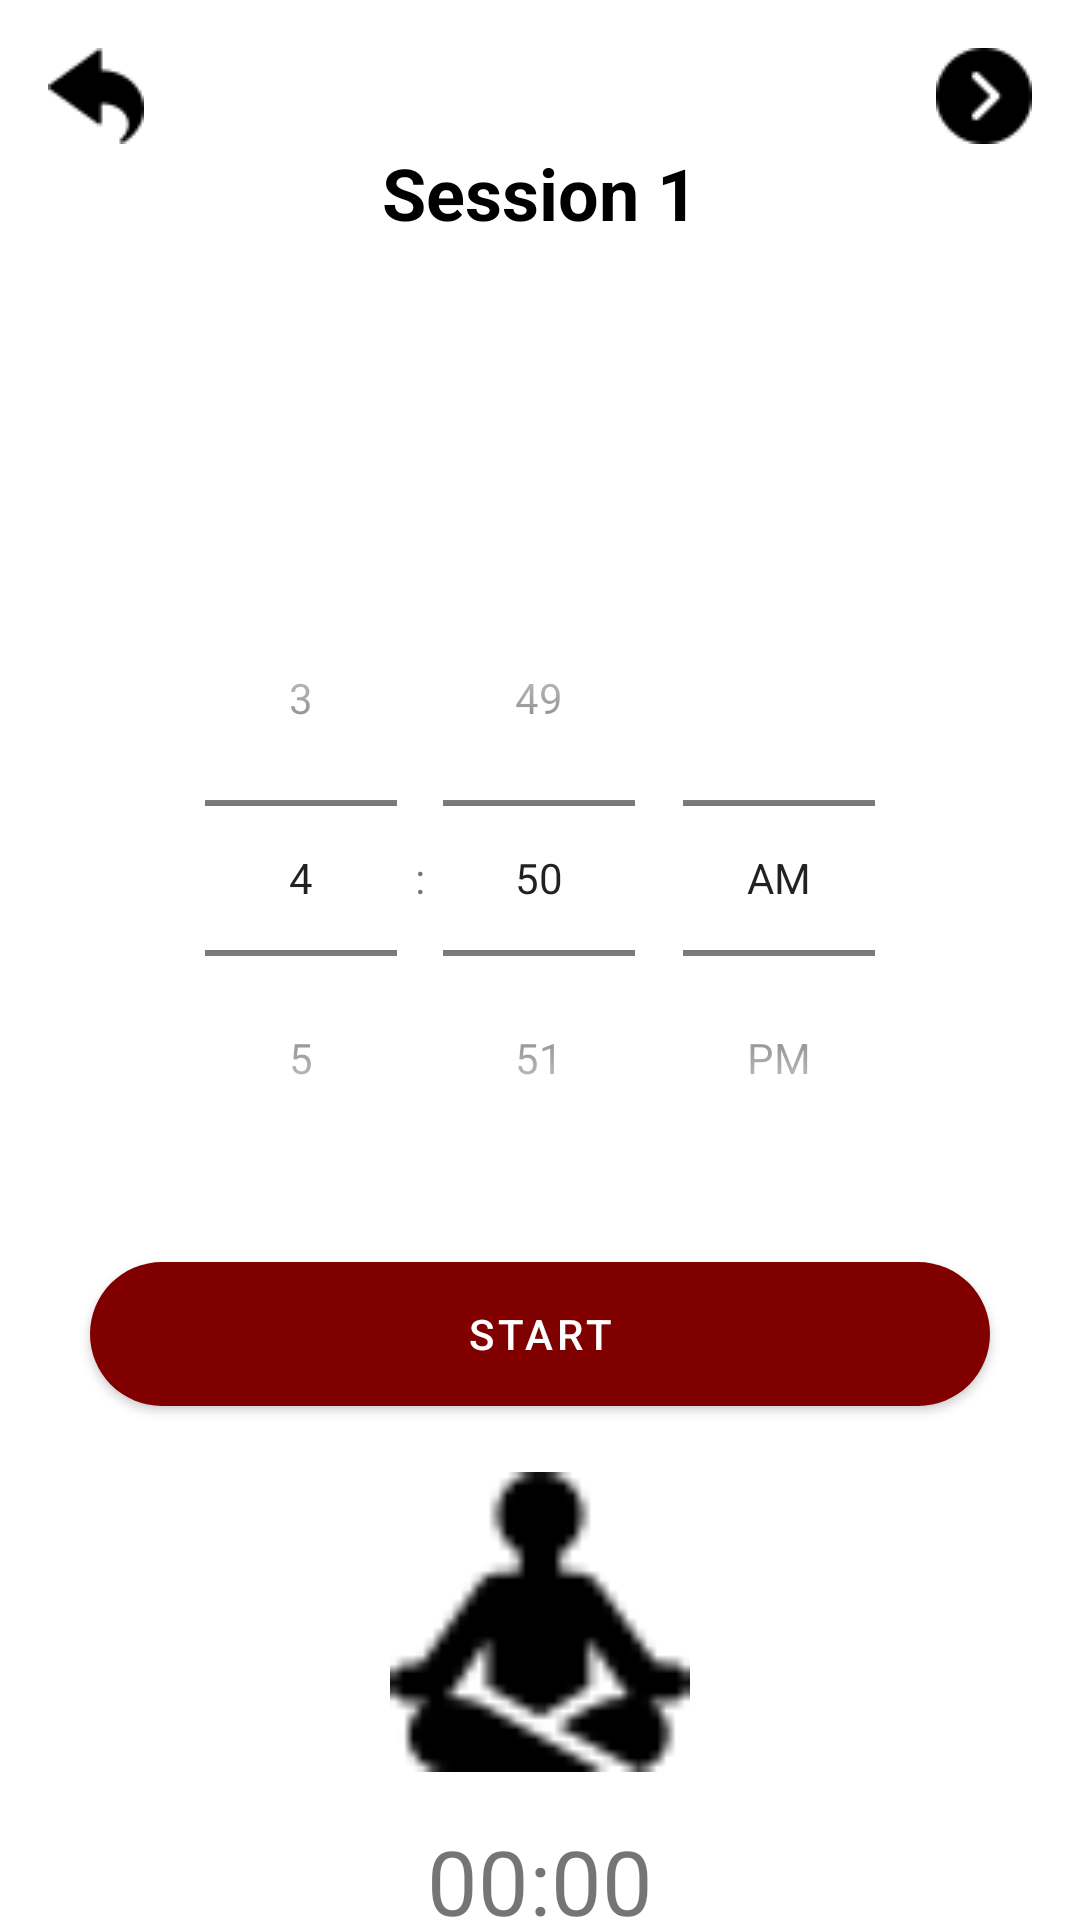

Where to tap for icons on this 1080px x 1920px app screen, as point (x, y):
Go back: point (96, 96)
Next: point (984, 96)
